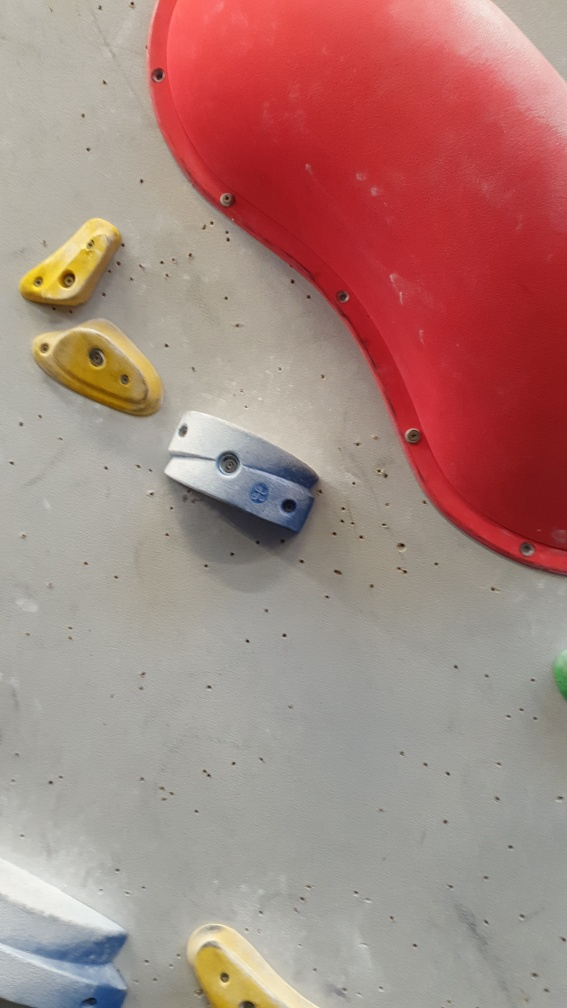Crimp: (48, 324, 152, 413), (186, 931, 291, 1008), (37, 228, 117, 312)
Pinch: (160, 409, 321, 536), (1, 849, 130, 1007)
